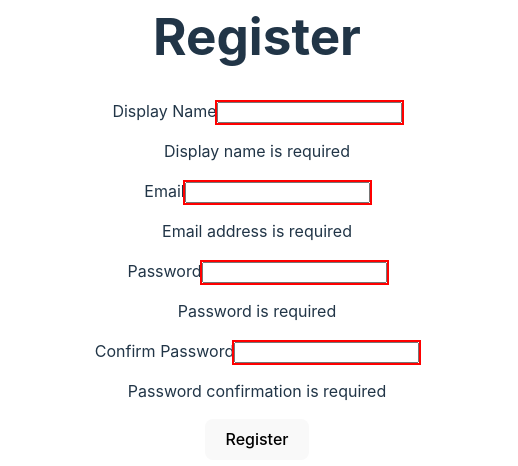
Test case: <Register> › Email Input › Hides error labels when fields filled out
Note: Like a user typing into the display name input
Type "test-registered@example.org" into the field labelled "Email" at [277, 192], box [185,182,370,203]
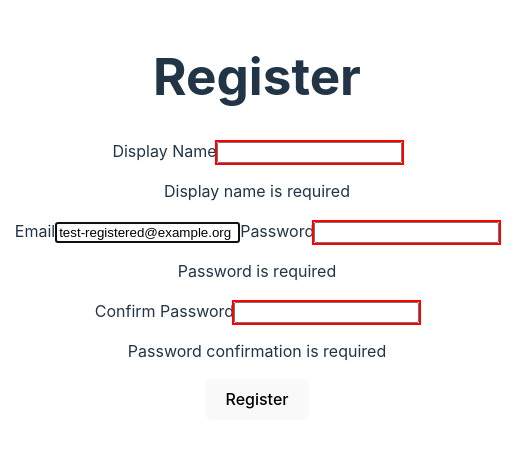
Check: the text "Email address is required" is gone
